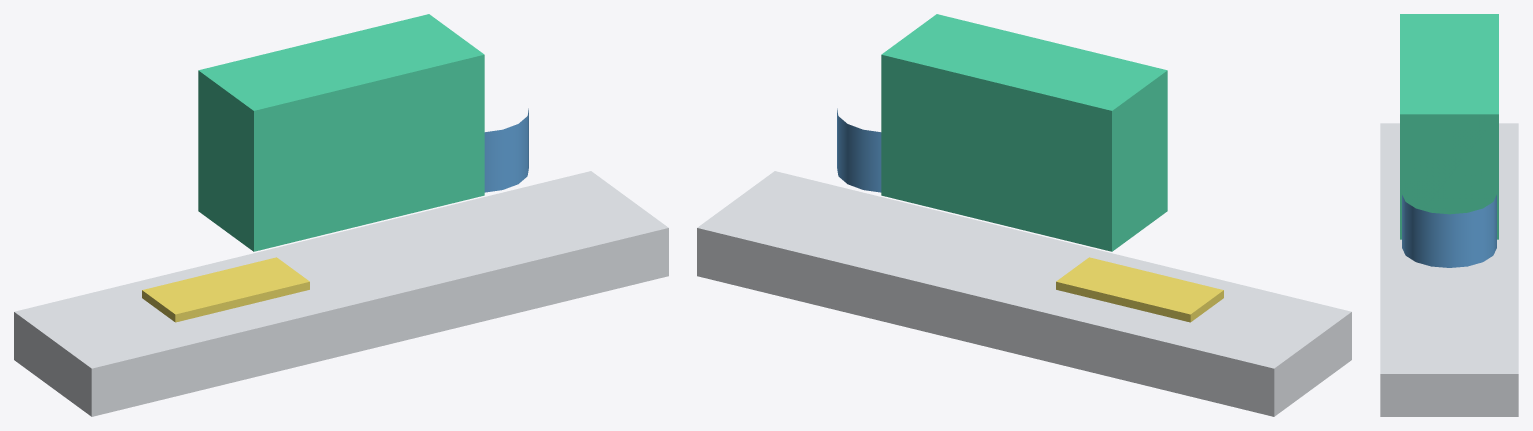
Rendered from strain_gauge_wheatstone_bridge.glb.
3 renders of one model, left to right at view 1: azimuth 30°, elevation 25°; view 2: azimuth 150°, elevation 25°; view 3: azimuth 270°, elevation 25°, orthographic. The views are drawn at different scales.
Parts seen in each view (by area): view 1: CantileverSteelBendingBeam, MicroStrainDigitalIndicator, ConstantanFoilStrainGaugeGrid, WheatstoneBridgeBalancePot; view 2: CantileverSteelBendingBeam, MicroStrainDigitalIndicator, ConstantanFoilStrainGaugeGrid, WheatstoneBridgeBalancePot; view 3: CantileverSteelBendingBeam, MicroStrainDigitalIndicator, WheatstoneBridgeBalancePot.
Part boxes in pixels (<box>): CantileverSteelBendingBeam: <box>14,171,668,416</box>; MicroStrainDigitalIndicator: <box>198,14,484,251</box>; ConstantanFoilStrainGaugeGrid: <box>142,257,309,322</box>; WheatstoneBridgeBalancePot: <box>484,108,528,192</box>; CantileverSteelBendingBeam: <box>697,171,1351,416</box>; MicroStrainDigitalIndicator: <box>881,14,1167,251</box>; ConstantanFoilStrainGaugeGrid: <box>1056,257,1223,322</box>; WheatstoneBridgeBalancePot: <box>837,108,881,192</box>; CantileverSteelBendingBeam: <box>1380,123,1518,416</box>; MicroStrainDigitalIndicator: <box>1400,14,1498,239</box>; WheatstoneBridgeBalancePot: <box>1402,195,1496,267</box>.
Bounding box in the file's own units: 1.5 × 0.635 × 0.35.
